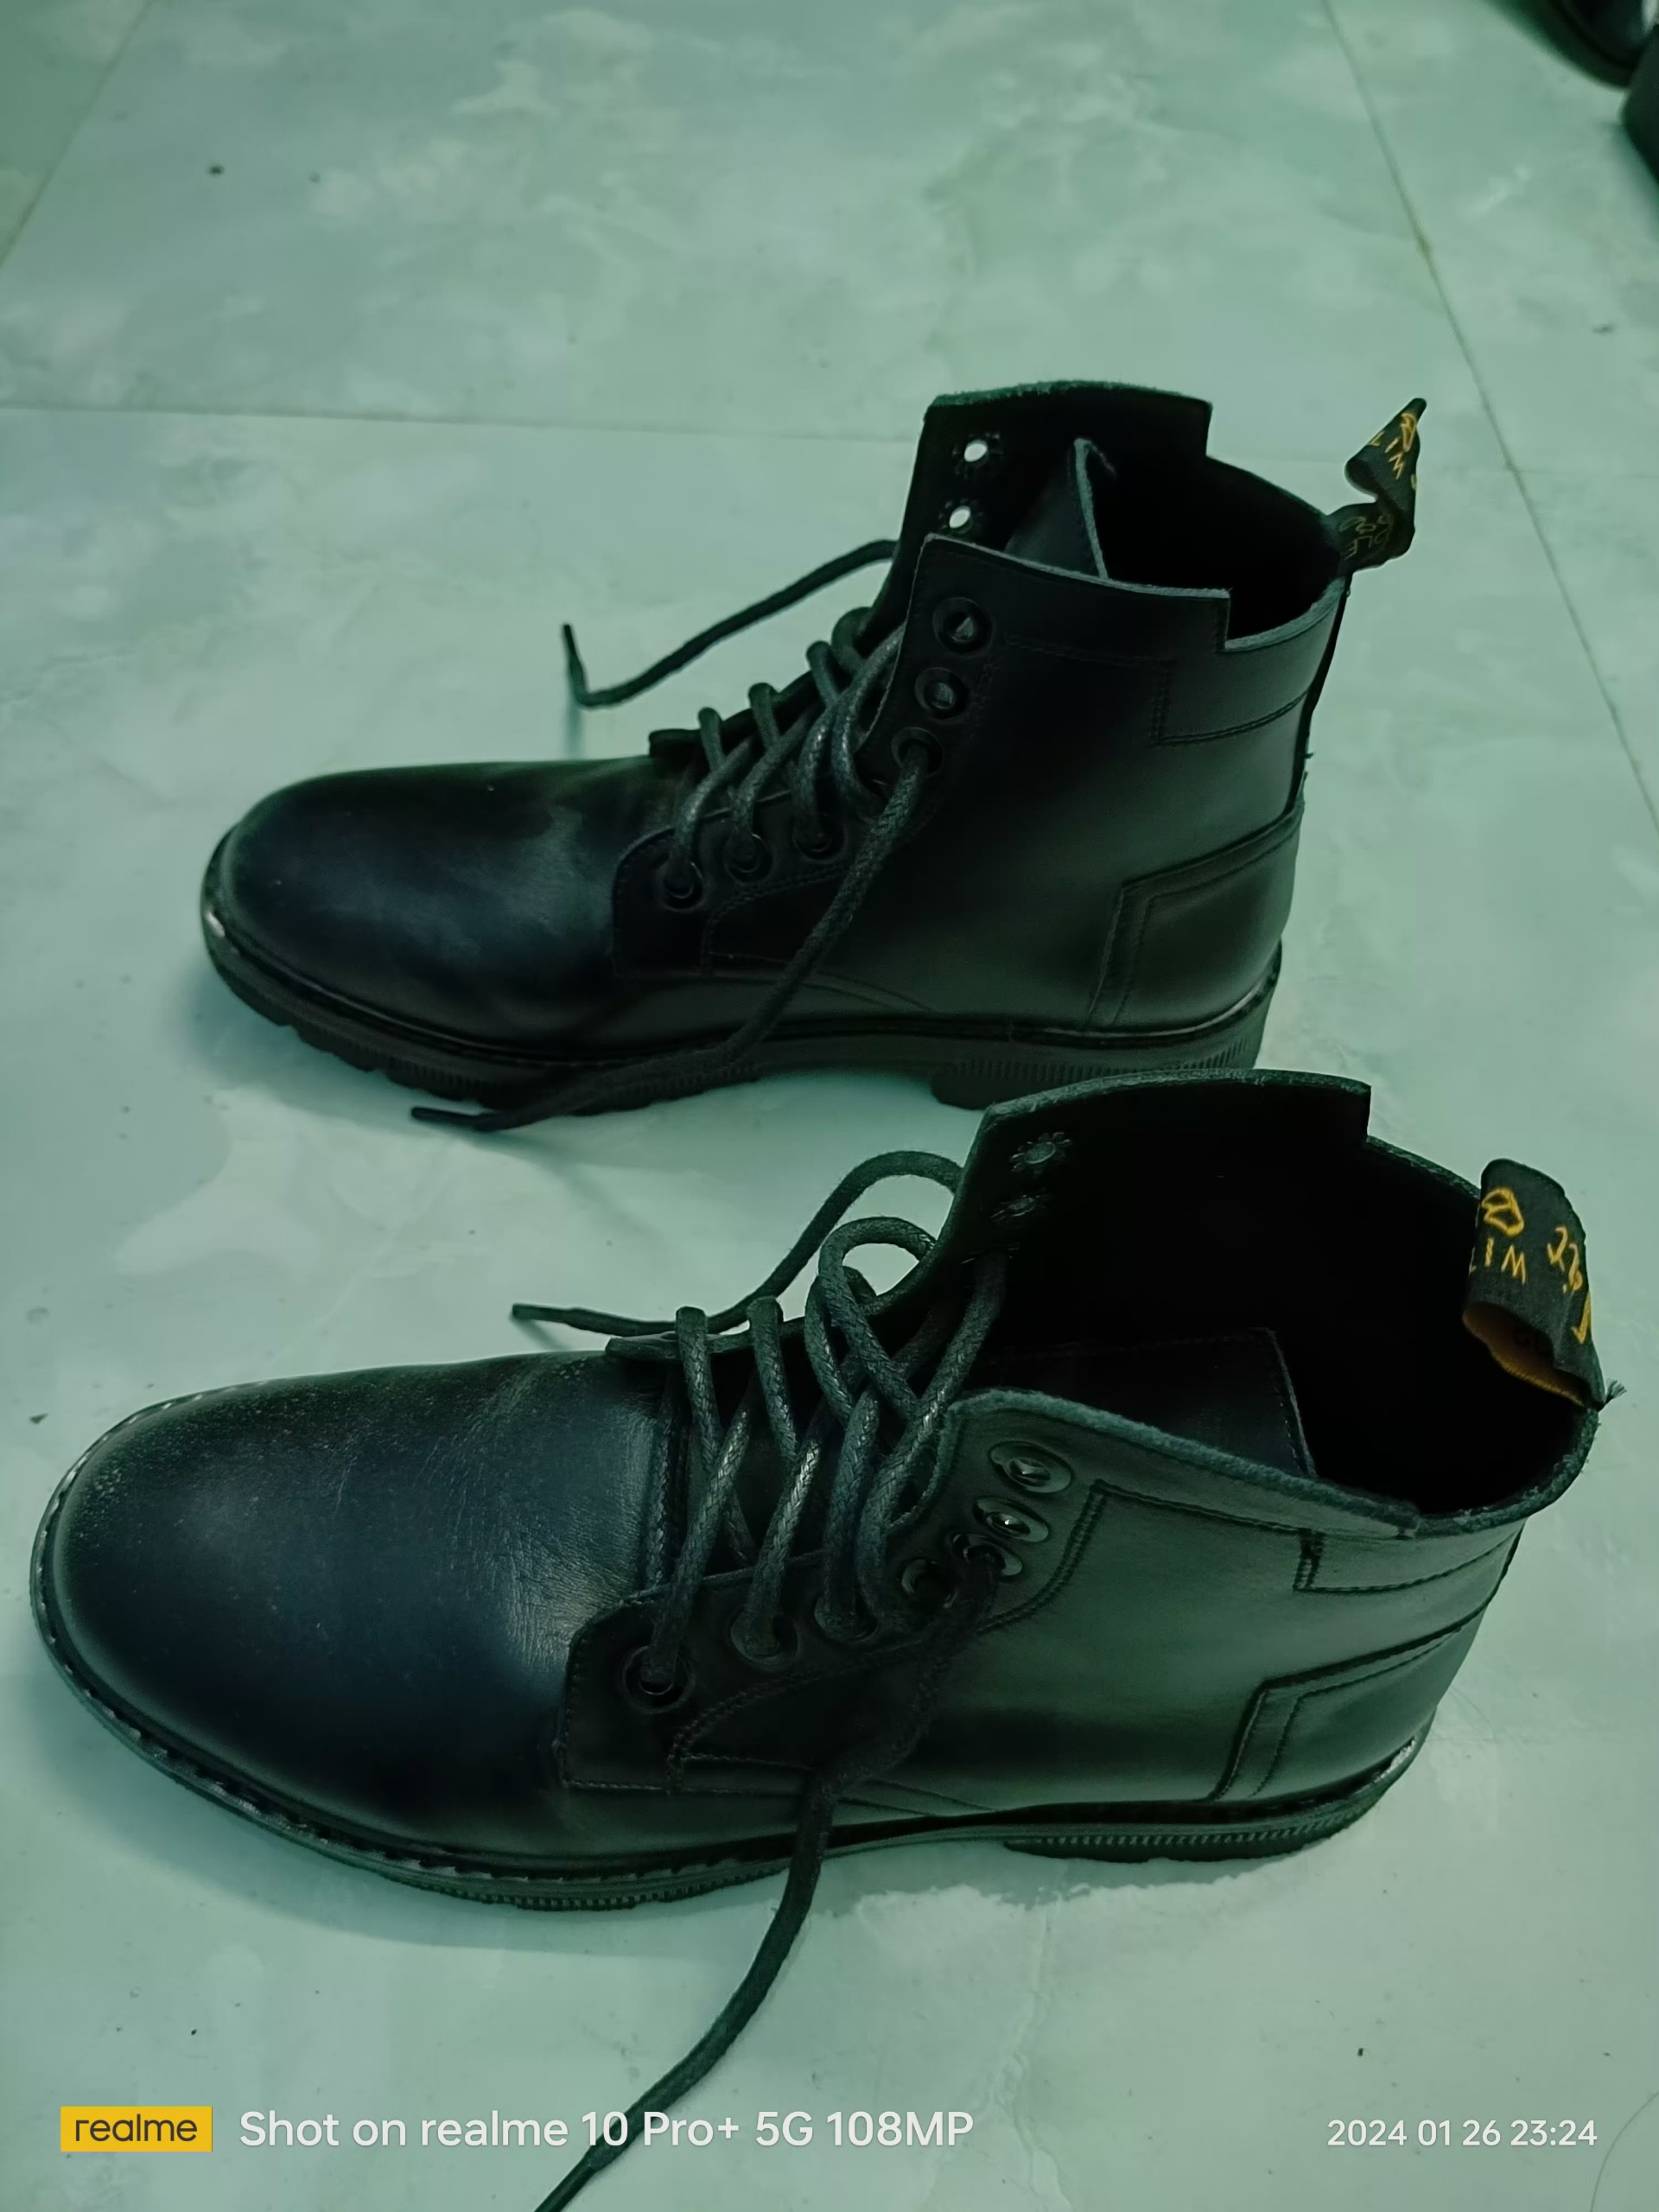boots: (31, 1069, 1600, 1918), (185, 373, 1424, 1116)
